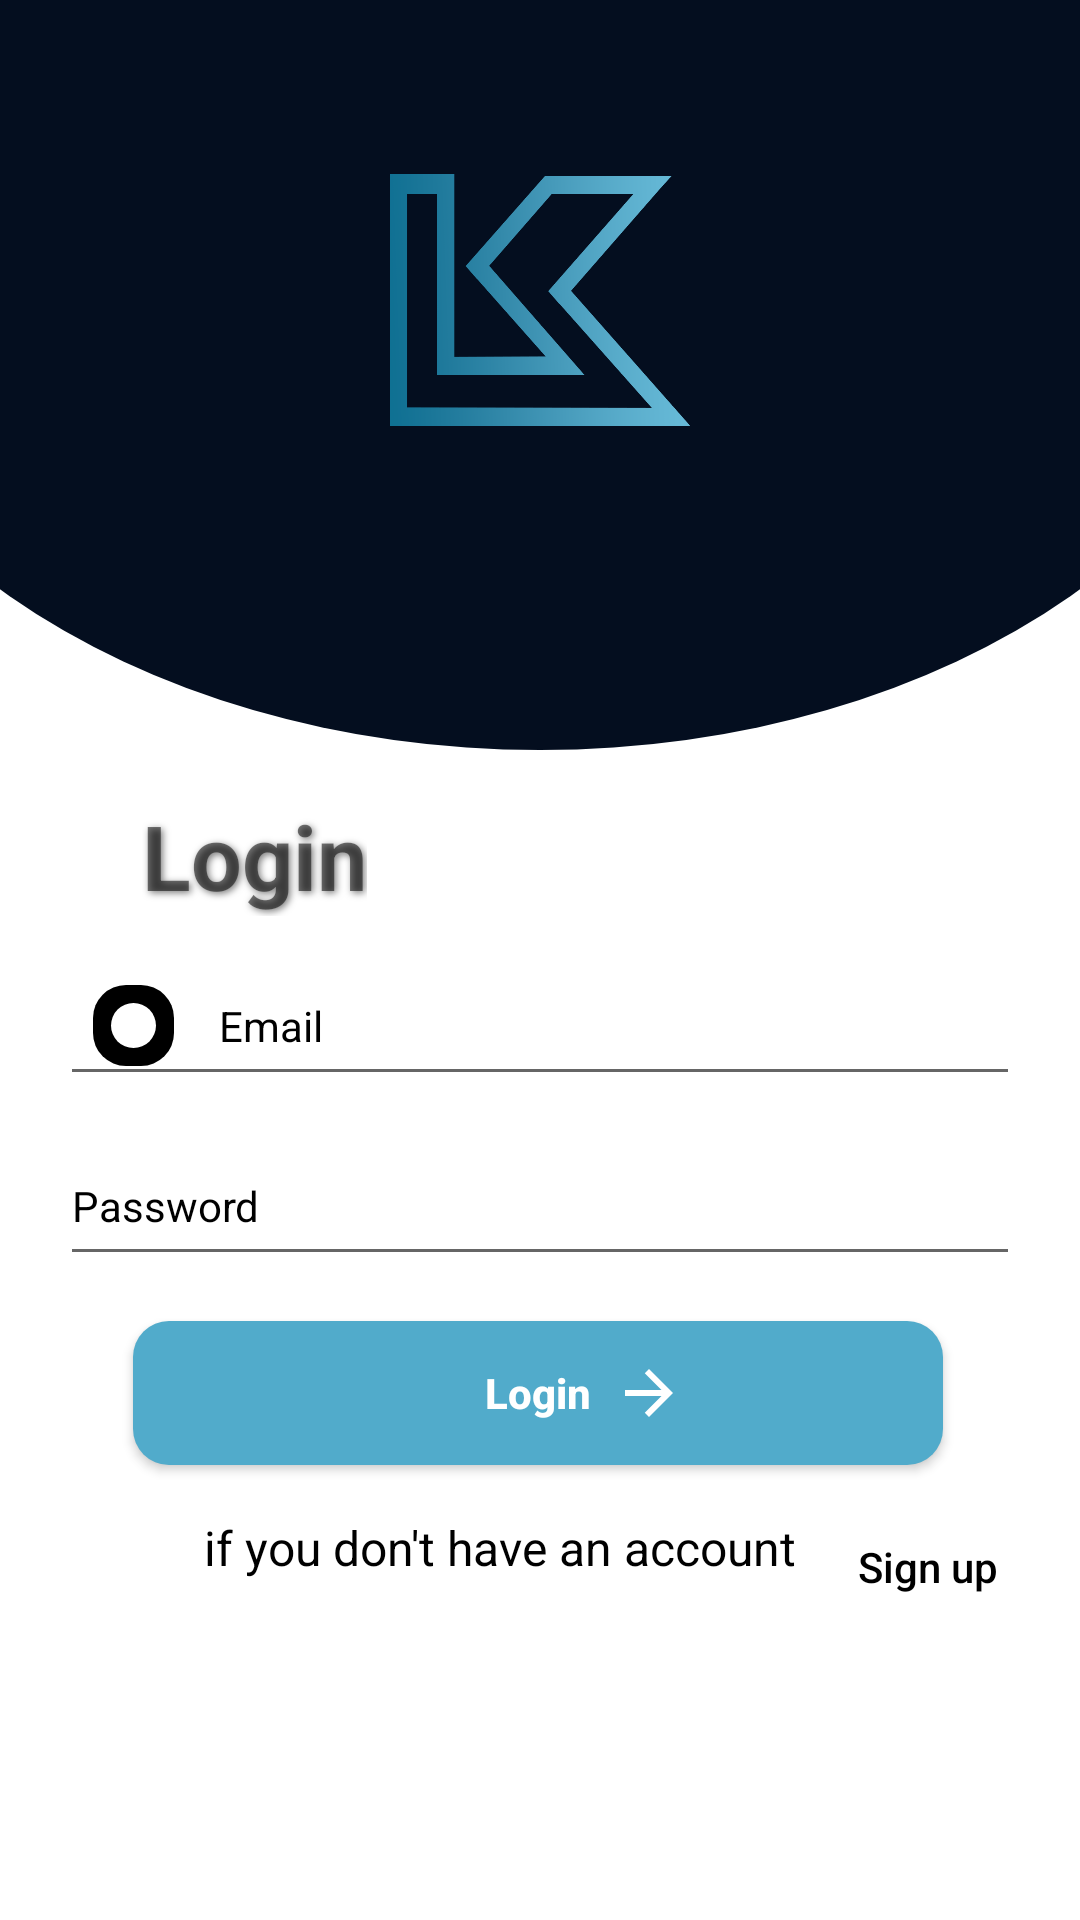

Locate icon controls on the screen. Image size 1080×1920, boxes as (x1, y1, x2, y2).
arrow forward: (625, 1369, 673, 1417)
